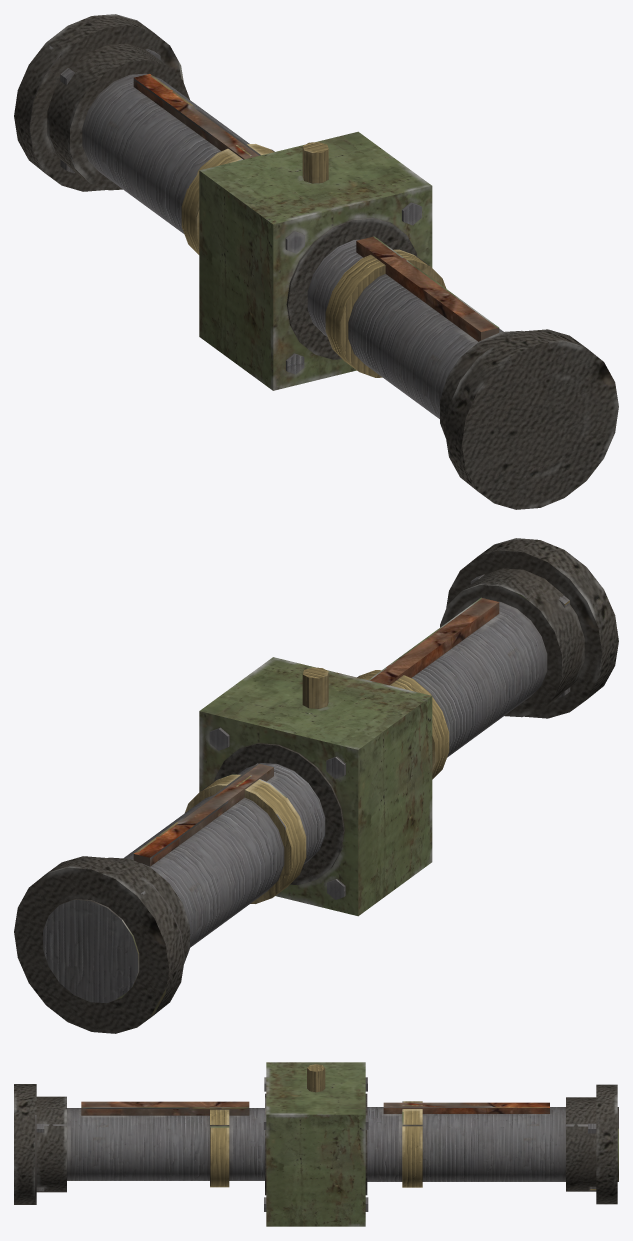
Rendered from feShaft_HD.fbx.
3 renders of one model, top to bottom at view 1: azimuth 30°, elevation 25°; view 2: azimuth 150°, elevation 25°; view 3: azimuth 270°, elevation 25°, orthographic. The views are drawn at different scales.
Visible parts, largest first — view 1: FeSpin_Shaft, feShaft_Bearing; view 2: FeSpin_Shaft, feShaft_Bearing; view 3: FeSpin_Shaft, feShaft_Bearing.
Part boxes in pixels (x1,y1,x2,y2): FeSpin_Shaft: (14,14,618,509); feShaft_Bearing: (199,131,432,390); FeSpin_Shaft: (14,538,618,1033); feShaft_Bearing: (199,657,432,916); FeSpin_Shaft: (14,1084,618,1204); feShaft_Bearing: (264,1062,368,1226).
Size of the model in its own units: 0.2048 by 0.2424 by 1.
Materials: 1 (1 with a texture image).
